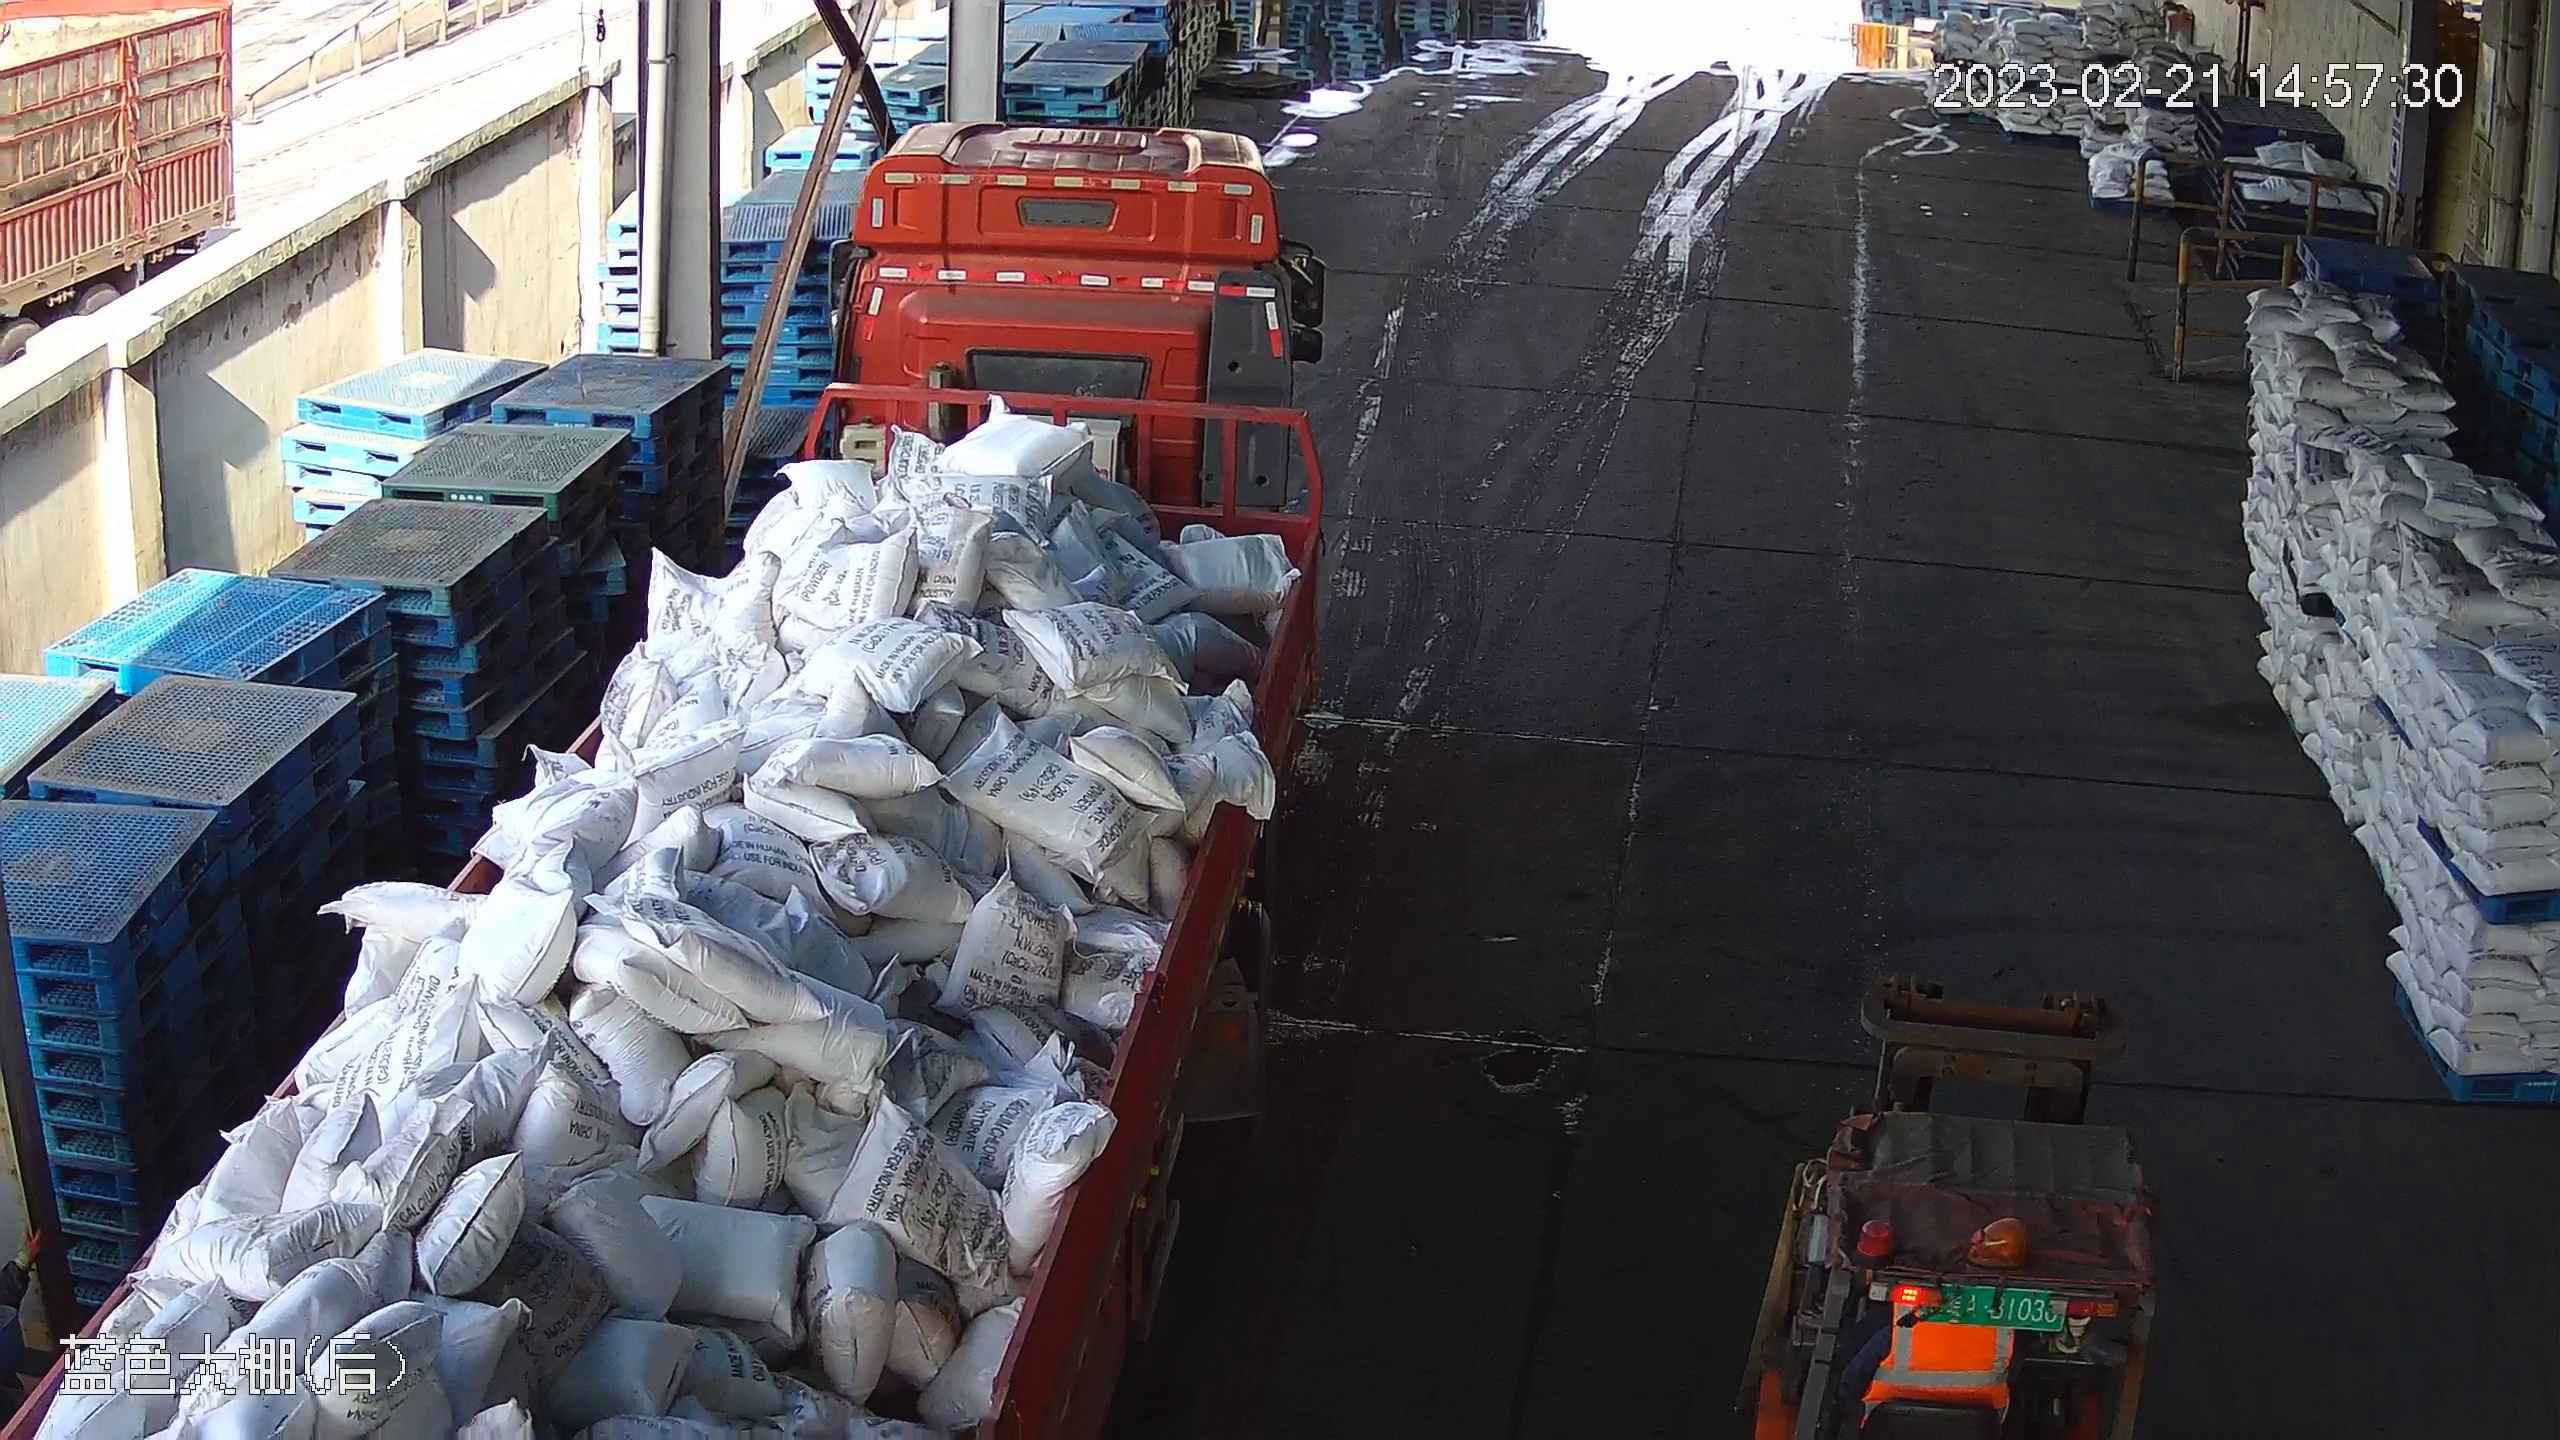truck: (2, 120, 1327, 1440)
